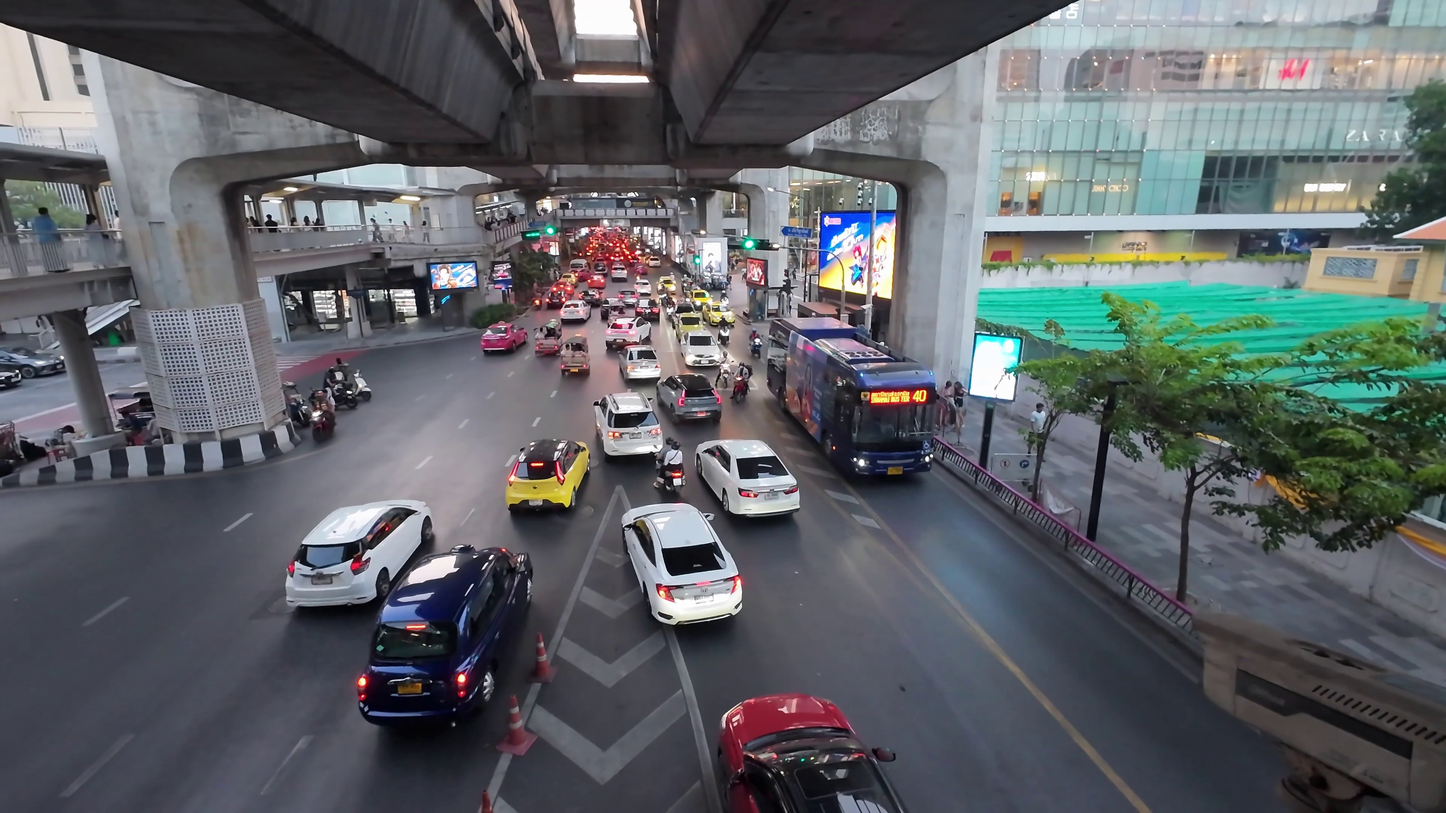license_plate: (398, 652, 490, 710), (820, 417, 904, 466), (821, 419, 905, 468), (764, 764, 860, 803), (321, 567, 397, 604), (651, 577, 713, 616), (719, 487, 773, 512), (526, 483, 570, 507), (610, 434, 646, 457), (679, 408, 707, 423), (302, 428, 325, 442), (491, 343, 516, 353), (566, 364, 582, 375)
motorcycle: (290, 391, 337, 445)
no_seatbelt: (380, 571, 508, 661), (803, 348, 921, 425), (804, 351, 921, 427), (745, 709, 879, 770), (306, 516, 412, 573), (638, 521, 726, 583), (708, 450, 784, 490), (517, 448, 578, 486), (603, 401, 653, 437), (673, 388, 712, 411), (486, 328, 520, 344), (563, 349, 585, 366)
